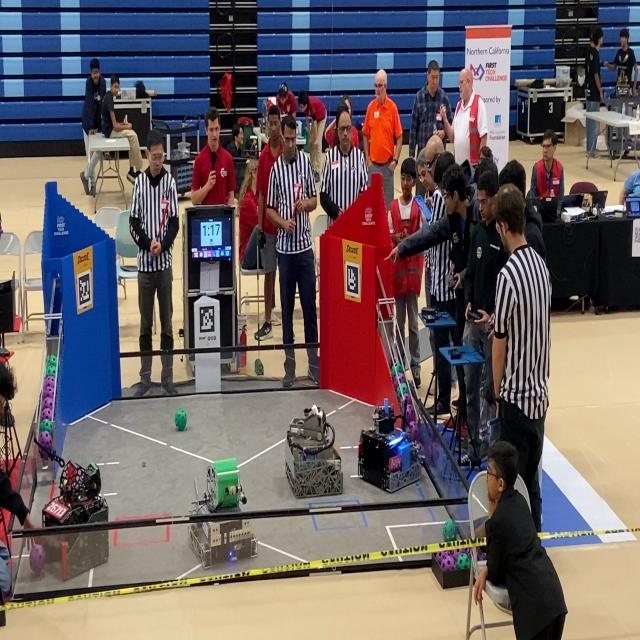artifact_green: (38, 432, 52, 460), (443, 519, 457, 541), (175, 408, 187, 431), (457, 553, 470, 570), (400, 393, 410, 414), (435, 550, 451, 563), (39, 419, 52, 435), (391, 362, 404, 378), (397, 383, 409, 400), (255, 359, 263, 375), (46, 356, 57, 367), (46, 365, 56, 377), (400, 382, 409, 395), (47, 355, 57, 366), (392, 376, 399, 391), (48, 362, 58, 370), (397, 385, 402, 400), (44, 366, 48, 381), (79, 537, 84, 549), (142, 461, 145, 467)
artifact_purple: (30, 545, 46, 575), (39, 431, 52, 459), (429, 442, 442, 465), (440, 555, 456, 571), (405, 403, 416, 423), (451, 547, 465, 561), (436, 551, 450, 562), (401, 394, 410, 411), (411, 422, 419, 441), (44, 384, 55, 396), (41, 408, 52, 420), (43, 388, 53, 399), (44, 378, 55, 388), (43, 397, 53, 408), (477, 549, 486, 561), (397, 372, 406, 384), (45, 376, 55, 386), (46, 385, 55, 396), (417, 442, 424, 456), (399, 397, 404, 415), (463, 548, 471, 558), (394, 376, 399, 391)
